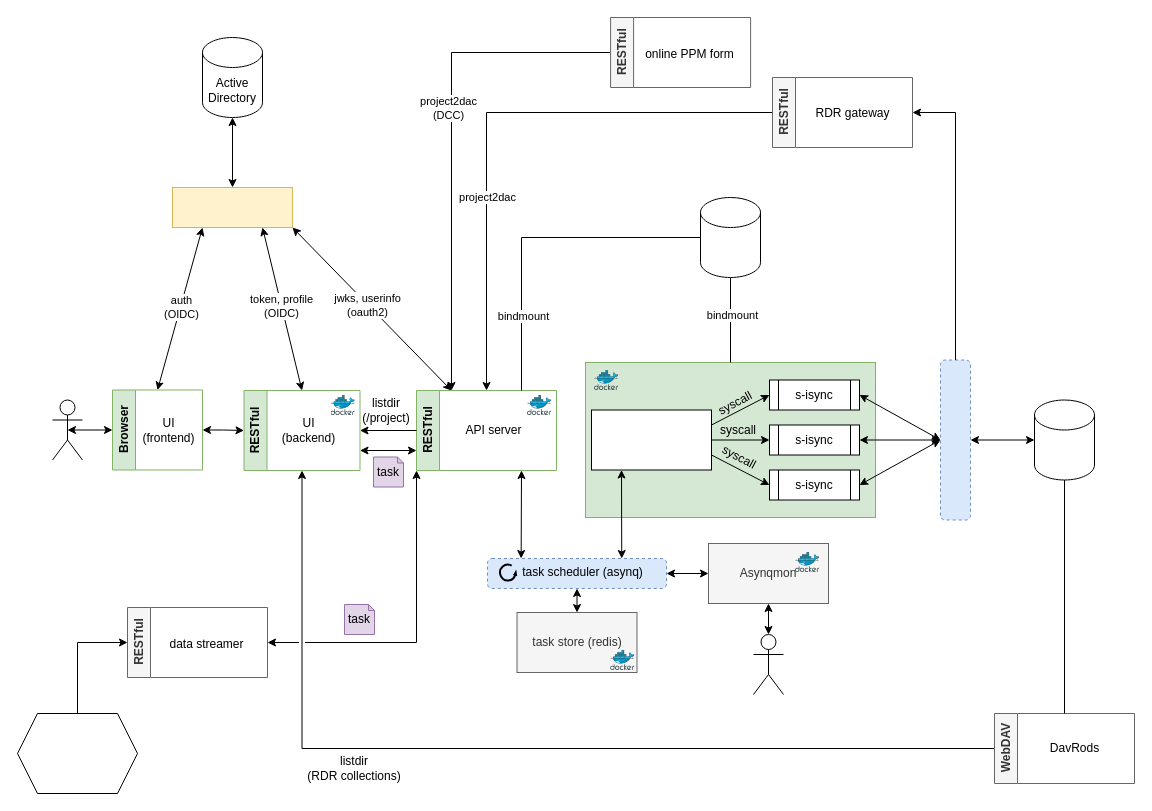
Image size: 1152x811. Some labels were removed from this diagram. The centre of each missing label's shape, as x and y in pixels:
Admin: the point at 768,664
auth server: the point at 232,207
host filesystem (/project): the point at 730,237
iRODS: the point at 1064,439
irods protocol (go-irodsclient): the point at 955,439
MRI/MEG scanners: the point at 77,753
User: the point at 67,429
Worker: the point at 651,439
